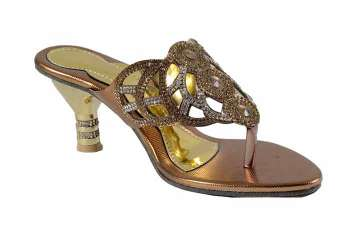Footwear: (30, 36, 325, 200)
